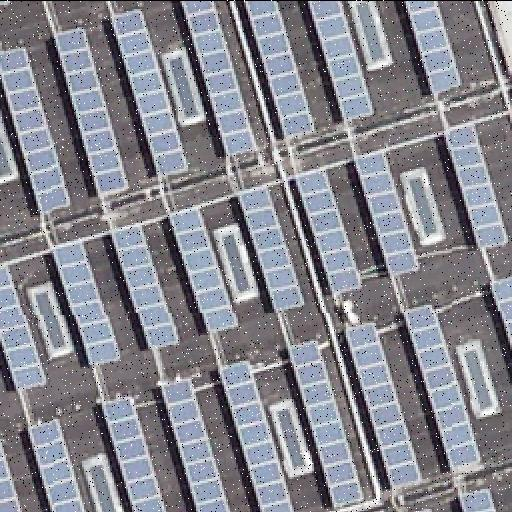solar-panel: (52, 25, 132, 199), (402, 300, 482, 472), (285, 333, 363, 507), (113, 6, 191, 178), (345, 318, 423, 486), (0, 41, 72, 215), (217, 356, 295, 512), (183, 1, 257, 159), (160, 376, 232, 512), (245, 0, 315, 136), (168, 203, 240, 333), (293, 164, 363, 296), (353, 147, 423, 277), (53, 239, 123, 369), (112, 219, 180, 349), (239, 182, 305, 314), (443, 122, 509, 250), (307, 0, 373, 120), (103, 392, 169, 512), (0, 257, 48, 391), (26, 417, 90, 511), (404, 0, 464, 92), (486, 271, 512, 361), (0, 436, 24, 512), (456, 488, 496, 512), (407, 504, 433, 512), (0, 1, 12, 7)
